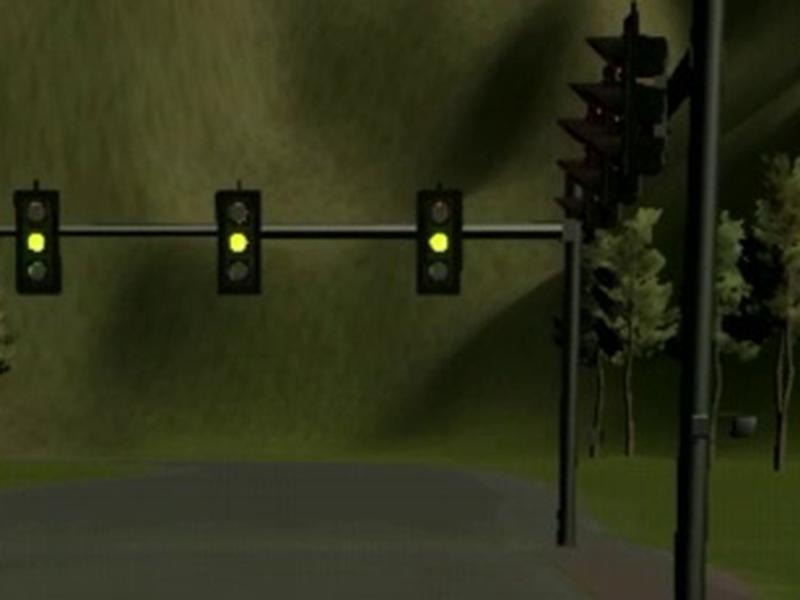Yellow: (14, 189, 61, 294), (417, 189, 462, 295), (216, 189, 261, 294)
